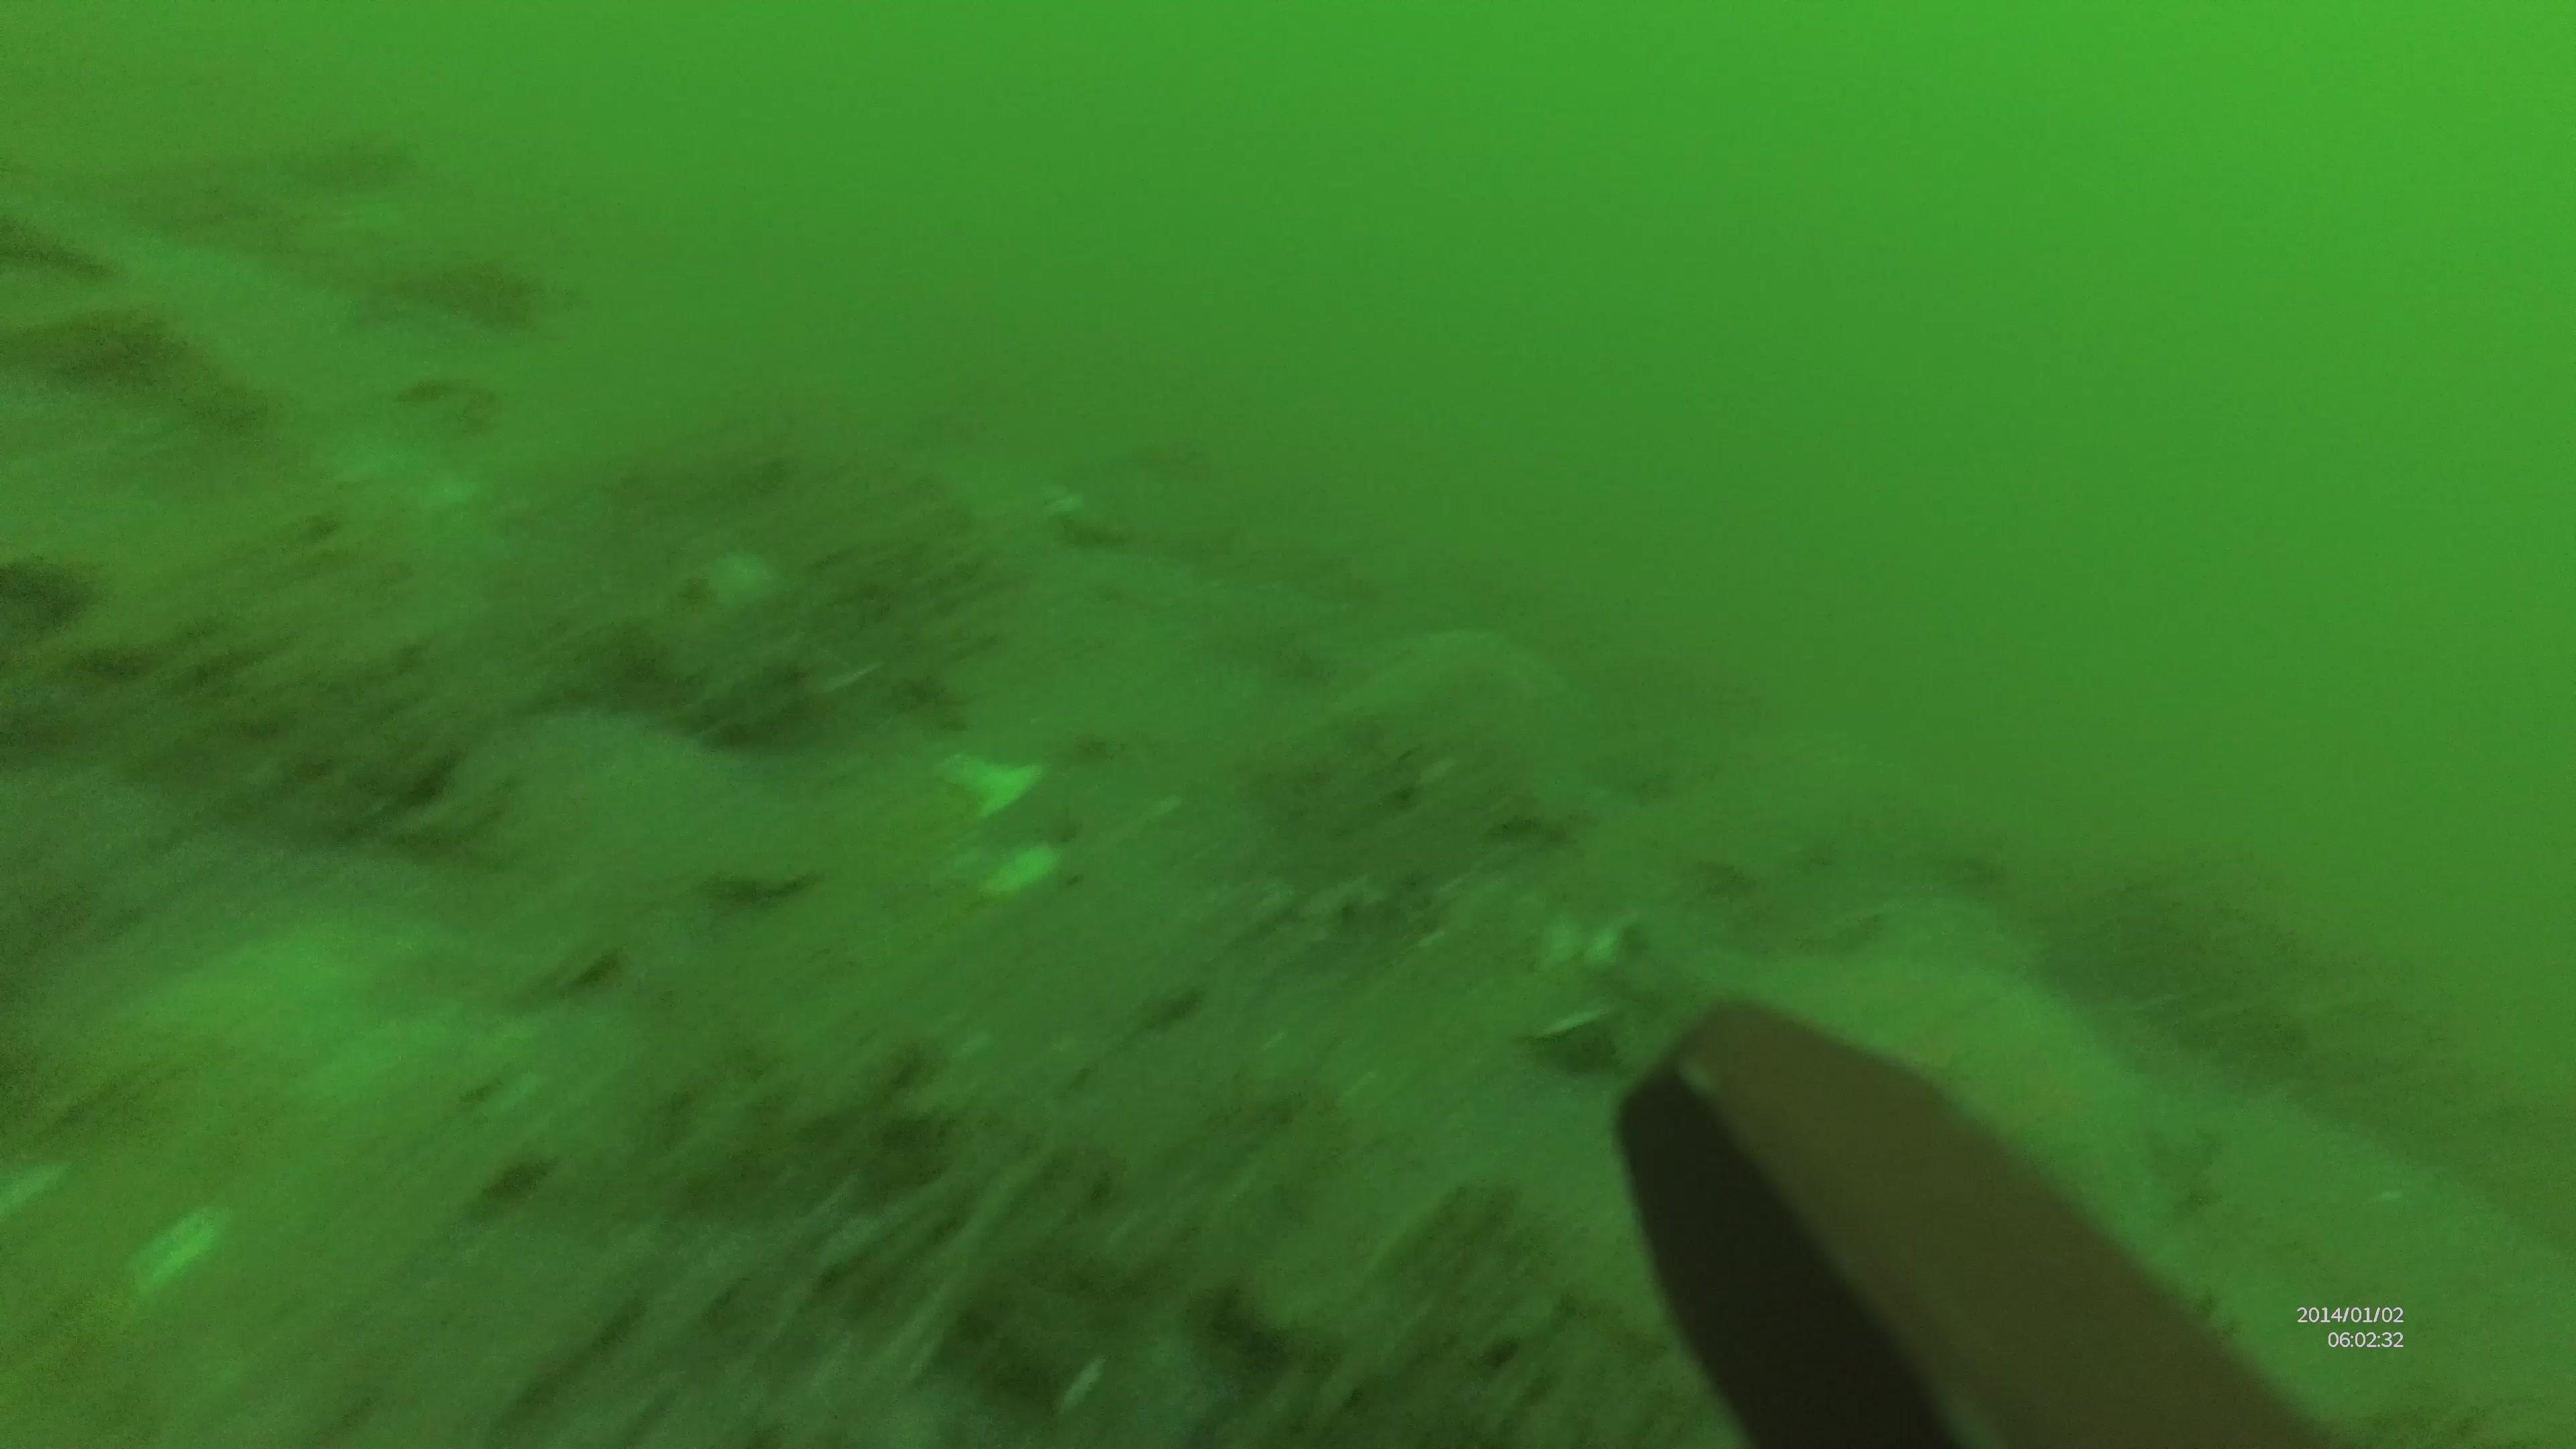starfish: (1348, 633, 1601, 833)
